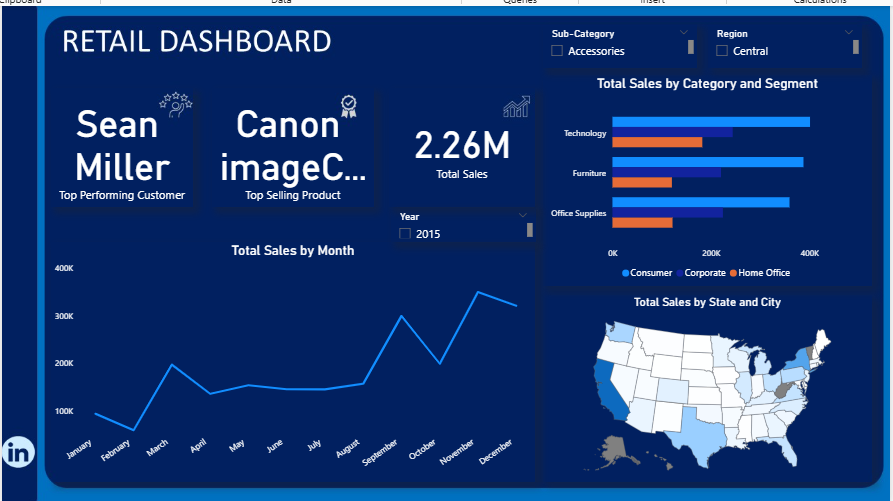

This screenshot's page, from the dashboard's own definition file:
{"tool":"powerbi","page":{"name":"Retail Overview","canvas":[1280,720],"ordinal":0},"visuals":[{"type":"lineChart","title":"Total Sales by Month","fields":{"Y":["FactsSales.Sales"],"Category":["Calendar_Table.Date.Variation.Date Hierarchy.Month"]},"box":[70.6,339.8,697,345.6],"z":0},{"type":"shapeMap","title":"Total Sales by State and City","fields":{"Value":["FactsSales.Sales"],"Category":["DimRegion.State"]},"box":[779,416.2,473.8,269.3],"z":1000},{"type":"card","fields":{"Values":[" Measures.Top Performing Customer"]},"box":[70.6,118.1,204.5,171.4],"z":2000},{"type":"slicer","fields":{"Values":["DimRegion.Region"]},"box":[1016.6,25.9,221.8,63.4],"z":3000},{"type":"card","fields":{"Values":[" Measures.Top Performing Product"]},"box":[302.4,118.1,233.3,171.4],"z":4000},{"type":"card","fields":{"Values":[" Measures.Total Sales"]},"box":[557.3,118.1,210.2,171.4],"z":5000},{"type":"clusteredBarChart","fields":{"Category":["DimProduct.Category"],"Y":[" Measures.Total Sales"],"Series":["DimCustomer.Segment"]},"box":[779,99.4,473.8,303.8],"z":6000},{"type":"slicer","fields":{"Values":["DimProduct.Sub-Category"]},"box":[779,25.9,221.8,63.4],"z":7000},{"type":"slicer","fields":{"Values":["LocalDateTable_af1296ce-ec50-4371-9ebb-450ef5ea692b.Year"]},"box":[560.2,289.4,208.8,50.4],"z":8000}]}

Visuals, with their boxes on the page's 1280x720 design canvas (x1, y1, x2, y2). These are canvas units, not pixel positions in the 893x501 screenshot, which may show the page scaled, cropped or inside an application window:
"Total Sales by Month" lineChart: x1=71, y1=340, x2=768, y2=685
"Total Sales by State and City" shapeMap: x1=779, y1=416, x2=1253, y2=686
card -  Measures.Top Performing Customer: x1=71, y1=118, x2=275, y2=290
slicer - DimRegion.Region: x1=1017, y1=26, x2=1238, y2=89
card -  Measures.Top Performing Product: x1=302, y1=118, x2=536, y2=290
card -  Measures.Total Sales: x1=557, y1=118, x2=768, y2=290
clusteredBarChart - DimProduct.Category x  Measures.Total Sales: x1=779, y1=99, x2=1253, y2=403
slicer - DimProduct.Sub-Category: x1=779, y1=26, x2=1001, y2=89
slicer - LocalDateTable_af1296ce-ec50-4371-9ebb-450ef5ea692b.Year: x1=560, y1=289, x2=769, y2=340
